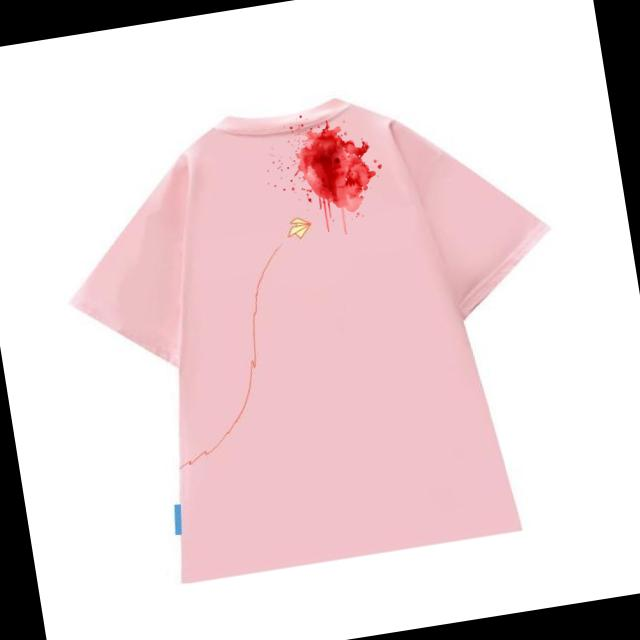stain: (289, 117, 384, 220)
